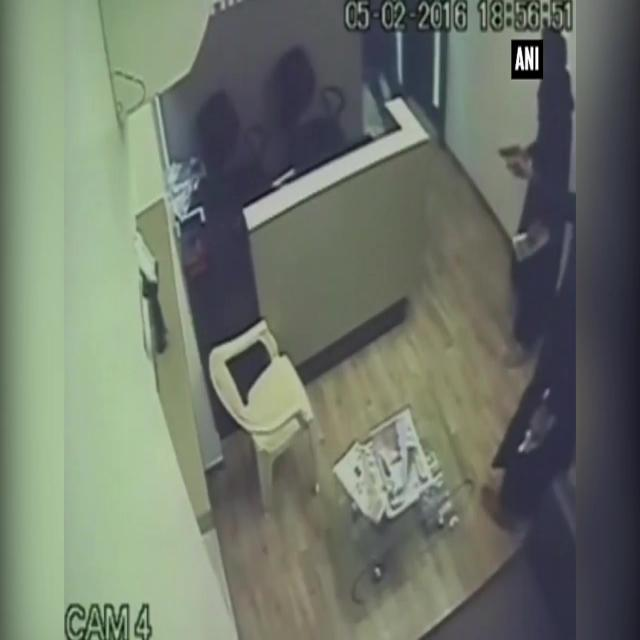Weapon: (497, 124, 539, 214)
